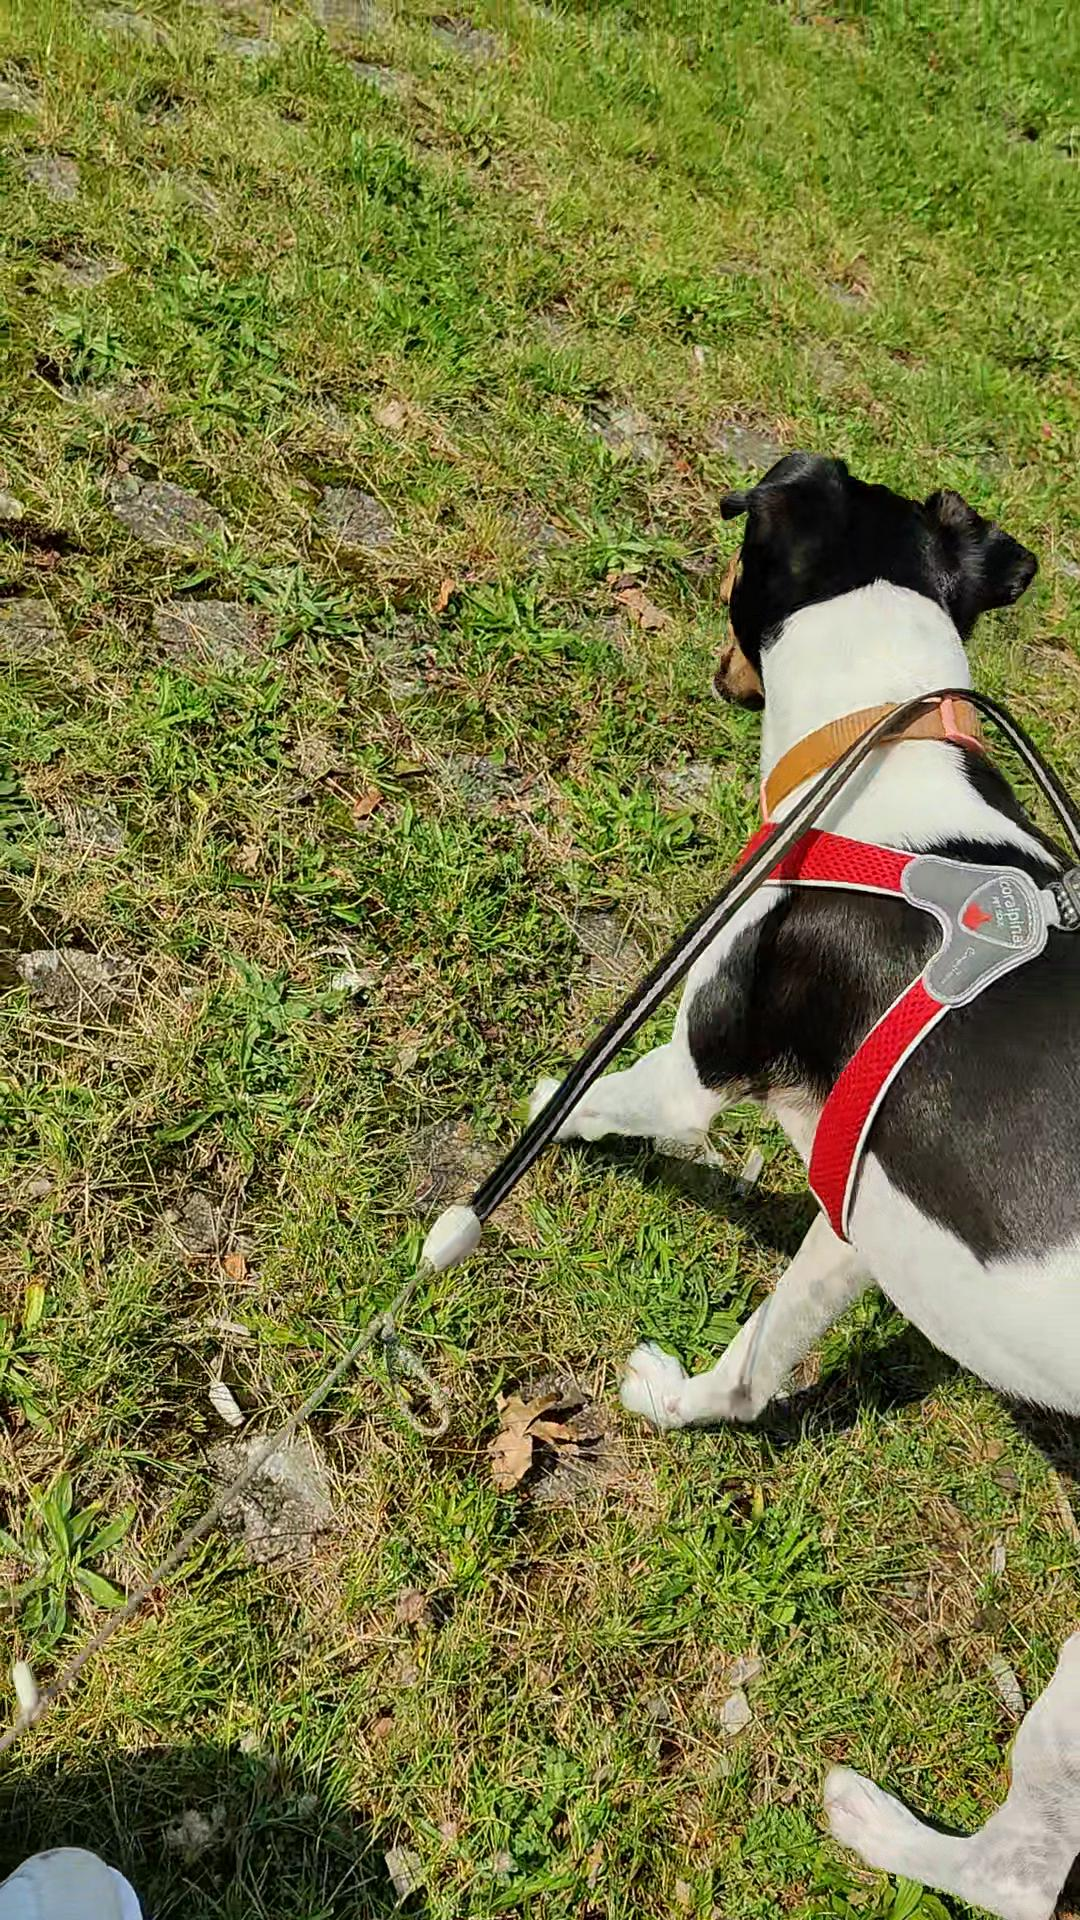Dog: (505, 415, 1079, 1919)
